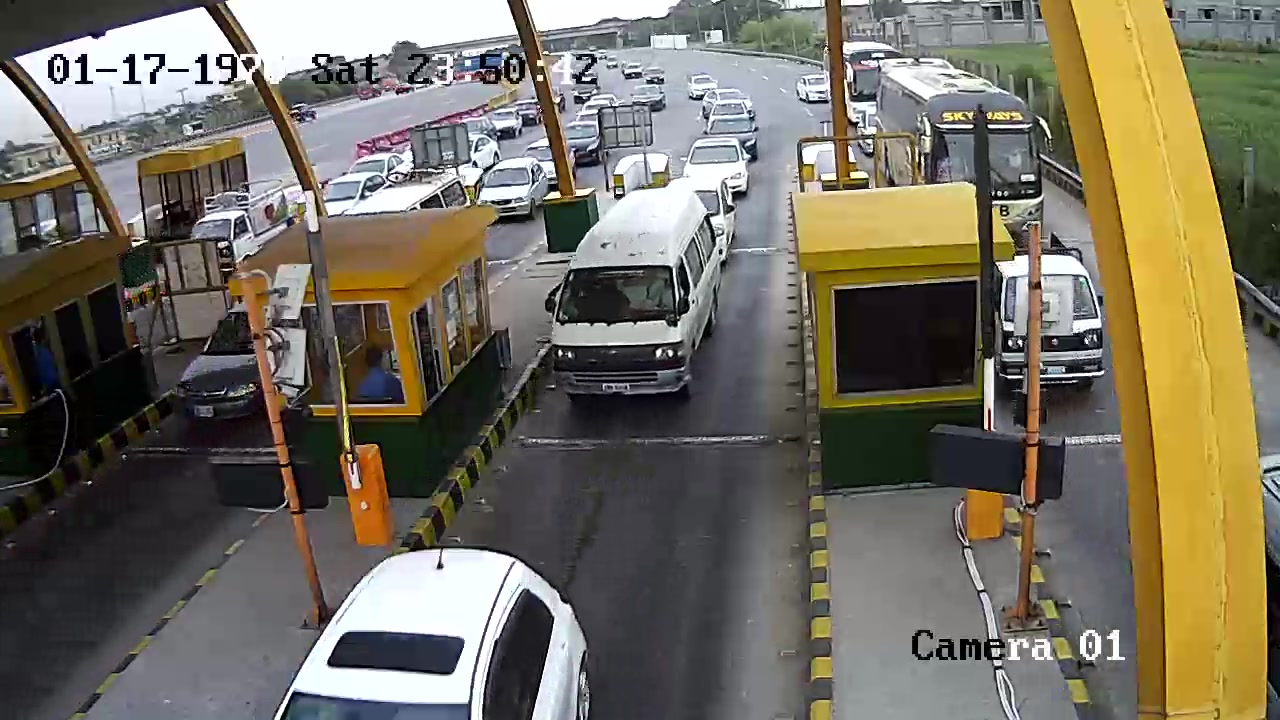F3: (540, 185, 724, 412)
